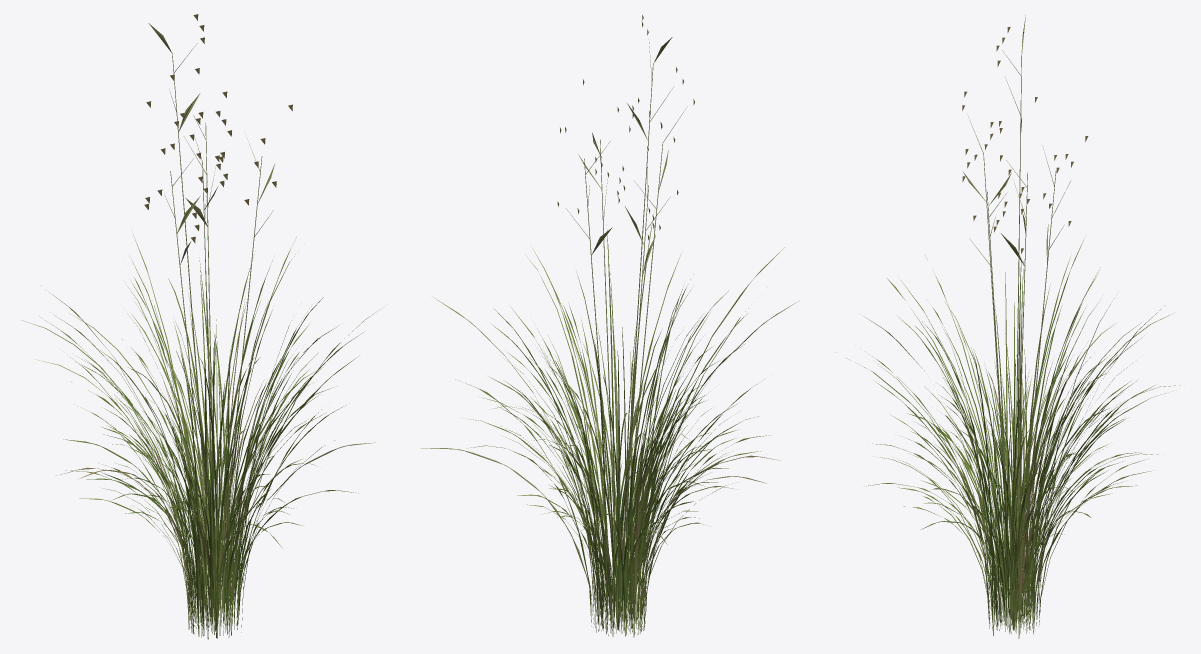
File: fine-fescue.glb
3 views of the same model, side by side, from view 1: azimuth 30°, elevation 25°; view 2: azimuth 150°, elevation 25°; view 3: azimuth 270°, elevation 25° (orthographic). The views are drawn at different scales.
Visible parts, largest first — view 1: Blades • Leaf green, Blades • Leaf forest, Blades • Leaf young, Blades • Leaf shaded, Flowering culms • Leaf olive, Blades • Dry sheath, Blades • Leaf olive, Panicle branches • Leaf olive, Spikelets • Dry sheath; view 2: Blades • Leaf green, Blades • Leaf forest, Blades • Leaf young, Blades • Leaf shaded, Flowering culms • Leaf olive, Blades • Dry sheath, Blades • Leaf olive, Panicle branches • Leaf olive; view 3: Blades • Leaf green, Blades • Leaf forest, Blades • Leaf young, Blades • Leaf shaded, Flowering culms • Leaf olive, Blades • Dry sheath, Blades • Leaf olive, Panicle branches • Leaf olive, Spikelets • Dry sheath.
Part boxes in pixels (x1,y1,x2,y2): Blades • Leaf green: (45,261,363,637); Blades • Leaf forest: (21,260,359,638); Blades • Leaf young: (38,234,375,639); Blades • Leaf shaded: (49,260,358,636); Flowering culms • Leaf olive: (170,53,262,629); Blades • Dry sheath: (60,298,308,634); Blades • Leaf olive: (103,302,375,628); Panicle branches • Leaf olive: (148,23,274,264); Spikelets • Dry sheath: (144,14,292,243); Blades • Leaf green: (455,253,799,636); Blades • Leaf forest: (466,307,769,636); Blades • Leaf young: (435,247,784,636); Blades • Leaf shaded: (494,210,756,634); Flowering culms • Leaf olive: (584,64,662,630); Blades • Dry sheath: (505,351,778,637); Blades • Leaf olive: (421,331,713,633); Panicle branches • Leaf olive: (566,37,687,274); Blades • Leaf green: (845,255,1165,634); Blades • Leaf forest: (872,257,1179,633); Blades • Leaf young: (887,272,1160,633); Blades • Leaf shaded: (865,240,1132,635); Flowering culms • Leaf olive: (983,56,1056,630); Blades • Dry sheath: (914,352,1081,638); Blades • Leaf olive: (931,378,1130,629); Panicle branches • Leaf olive: (963,15,1070,266); Spikelets • Dry sheath: (962,27,1088,253).
Bounding box in the file's own units: 0.2234 × 0.4273 × 0.2309.
